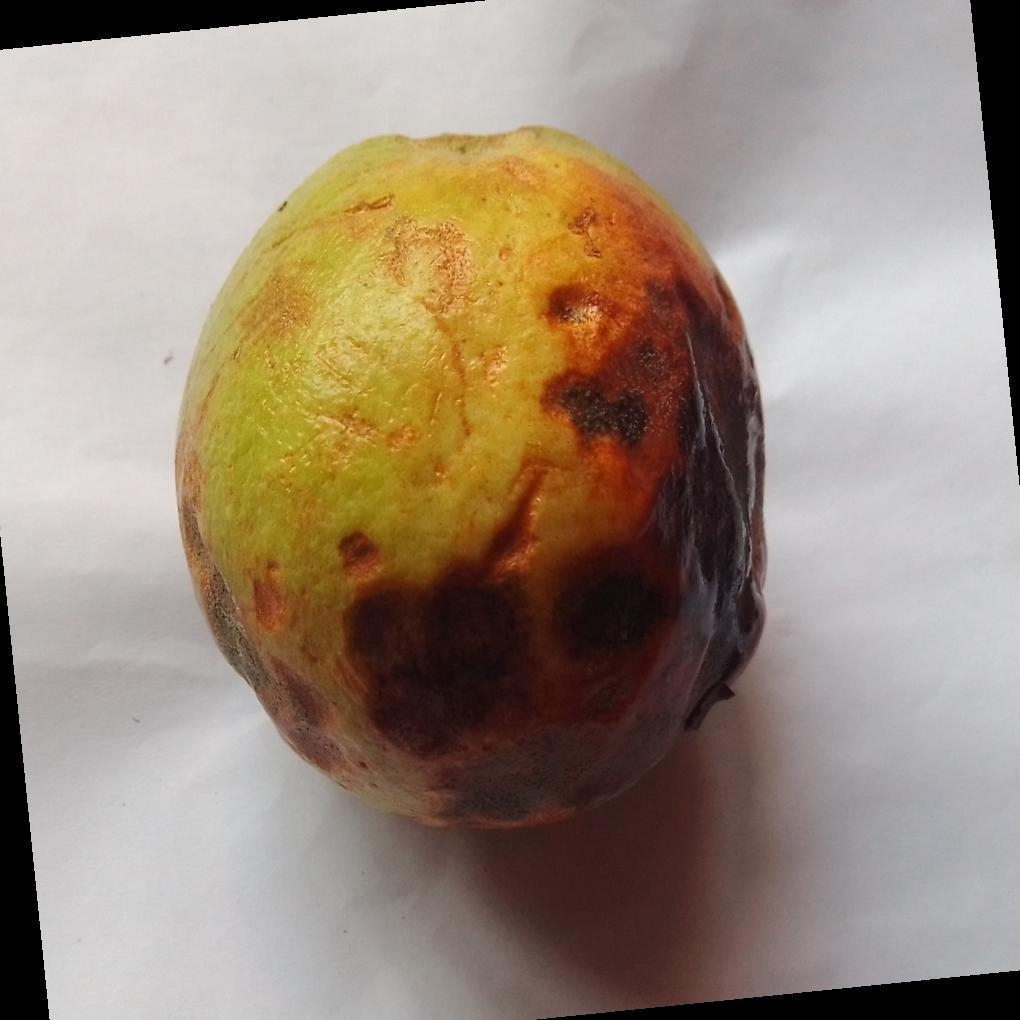FreshOrange: (173, 125, 768, 837)
